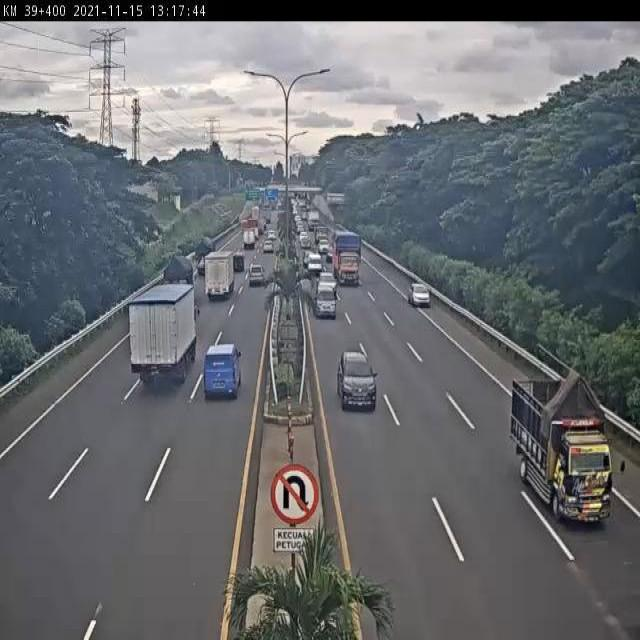car: (337, 348, 377, 412), (204, 340, 243, 403), (313, 284, 337, 319), (408, 282, 430, 310), (247, 261, 266, 288), (316, 270, 337, 294)
truck-l-: (332, 231, 368, 289)
truck-m-: (508, 366, 615, 534), (125, 282, 196, 389), (205, 248, 236, 300), (164, 253, 194, 300)
